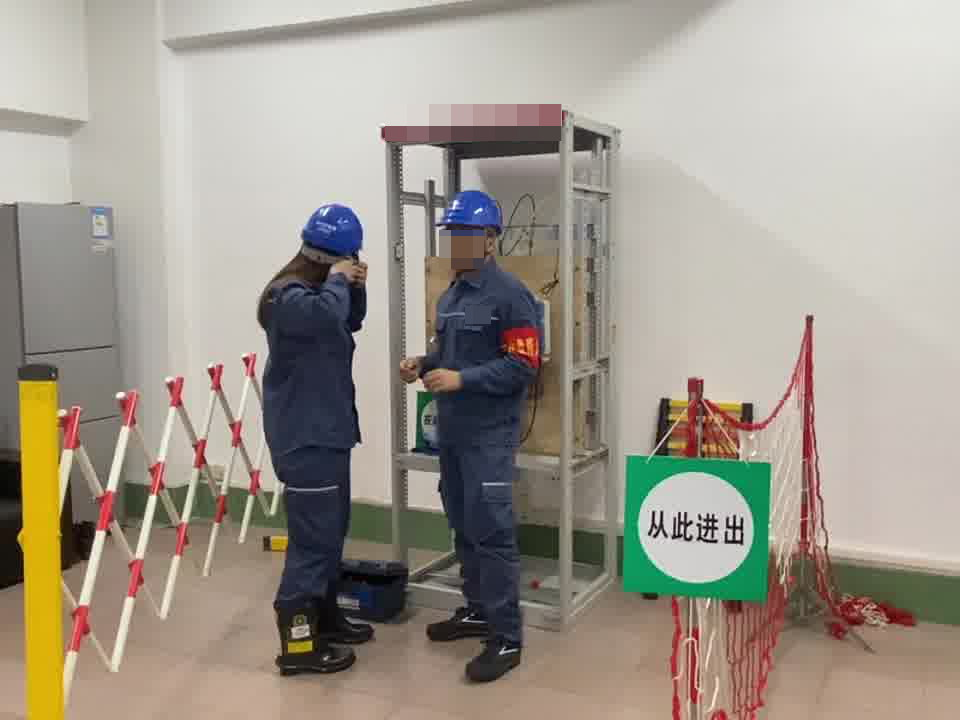badge: (501, 325, 542, 368)
downsuit: (438, 454, 524, 644), (271, 451, 355, 614)
hair: (263, 203, 365, 311)
halt: (436, 190, 507, 264)
hand: (391, 354, 422, 385), (424, 368, 459, 393), (336, 258, 365, 279)
inear: (476, 227, 503, 261)
intosign: (627, 457, 765, 600)
person: (408, 187, 548, 678), (255, 199, 377, 681)
shoe: (266, 596, 375, 675)
upsuit: (430, 270, 543, 443), (261, 280, 360, 449)
worksign: (411, 388, 446, 452)
